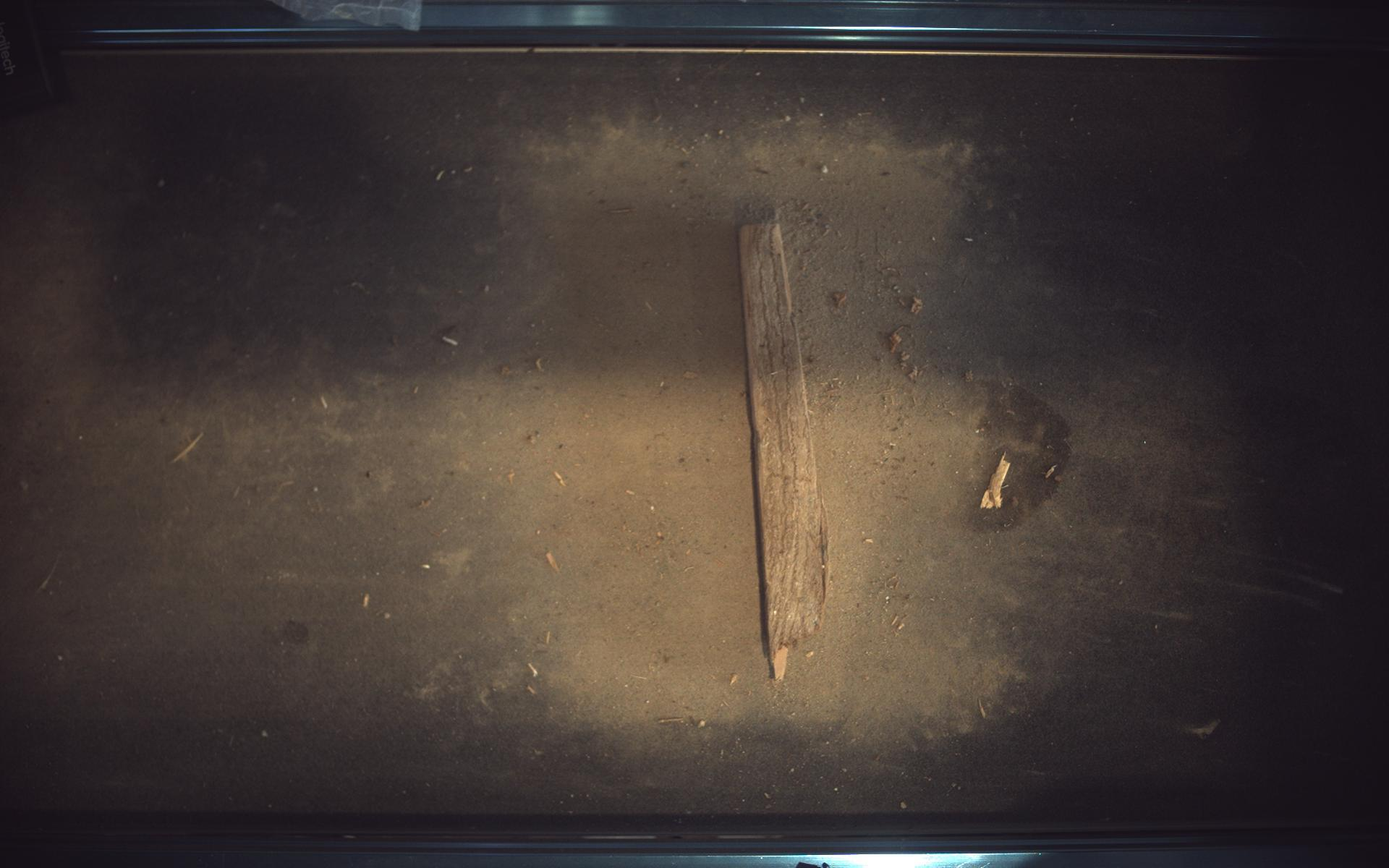wood: (740, 220, 830, 683)
